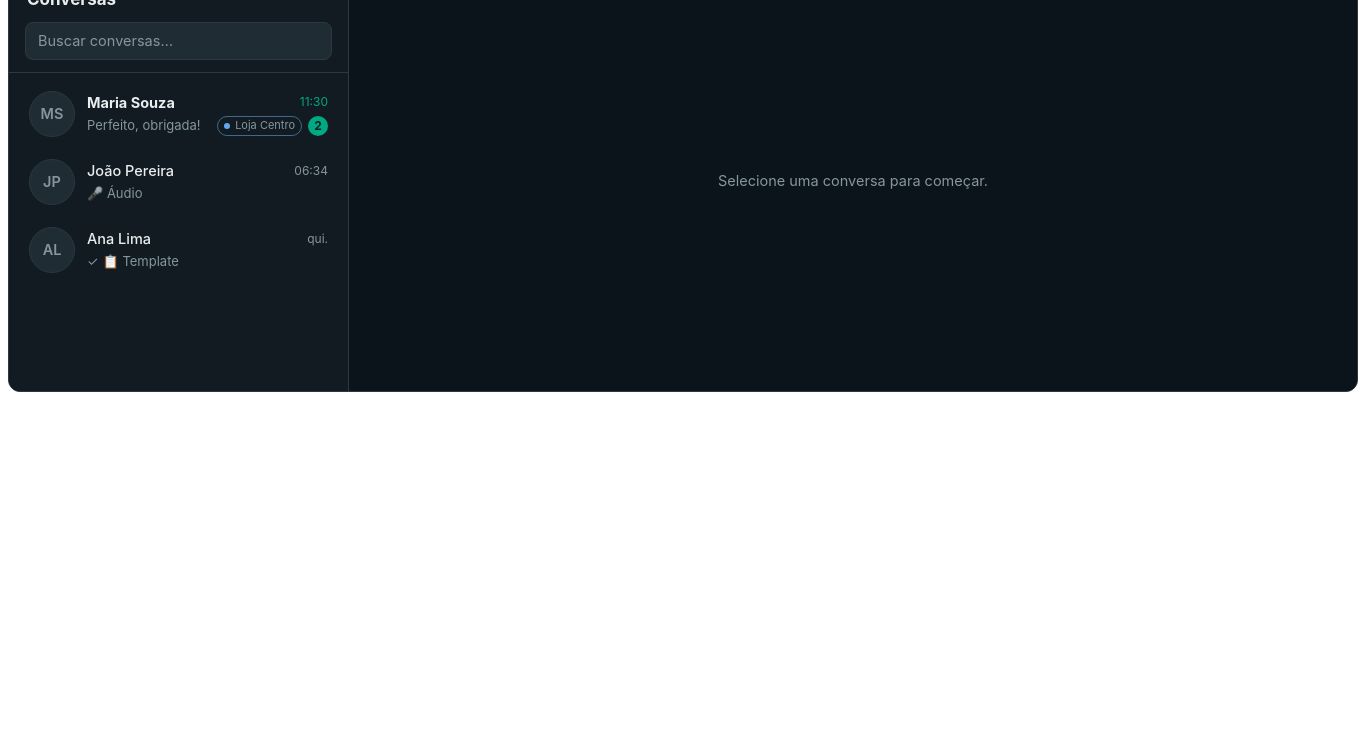
Scenario: ChatApp › renders conversations, opens a thread, sends optimistically
The width and height of the screenshot is (1366, 730).
Expected: the search field with placeholder "Buscar conversas…" is shown, [25,22,332,60]
# open thread
Click the button "MS Maria Souza 11:30 Perfeito, obrigada! Loja Centro 2": (52, 114) [17,81,340,147]
(page scrolled)
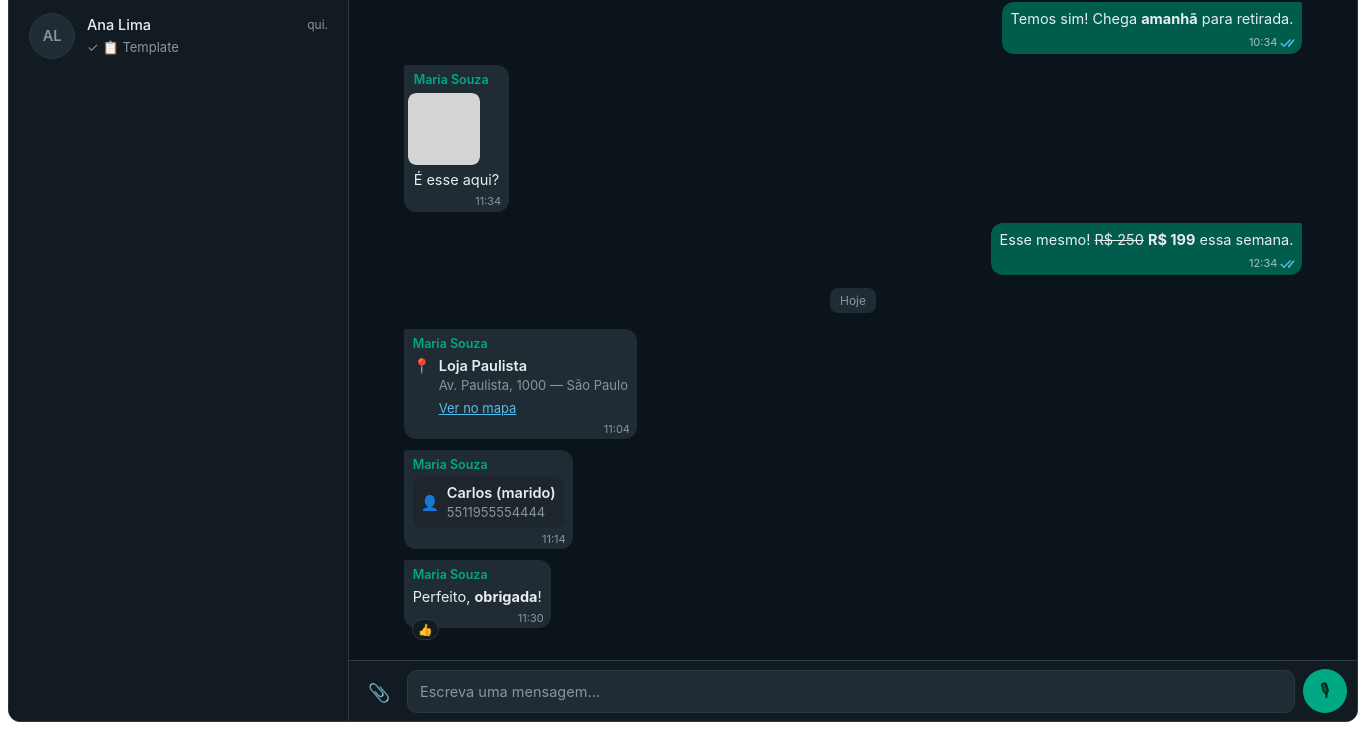
# optimistic send: bubble appears immediately
In the text box with placeholder "Escreva uma mensagem…": (851, 692) [407,670,1295,713], type "chegando em 10 min"
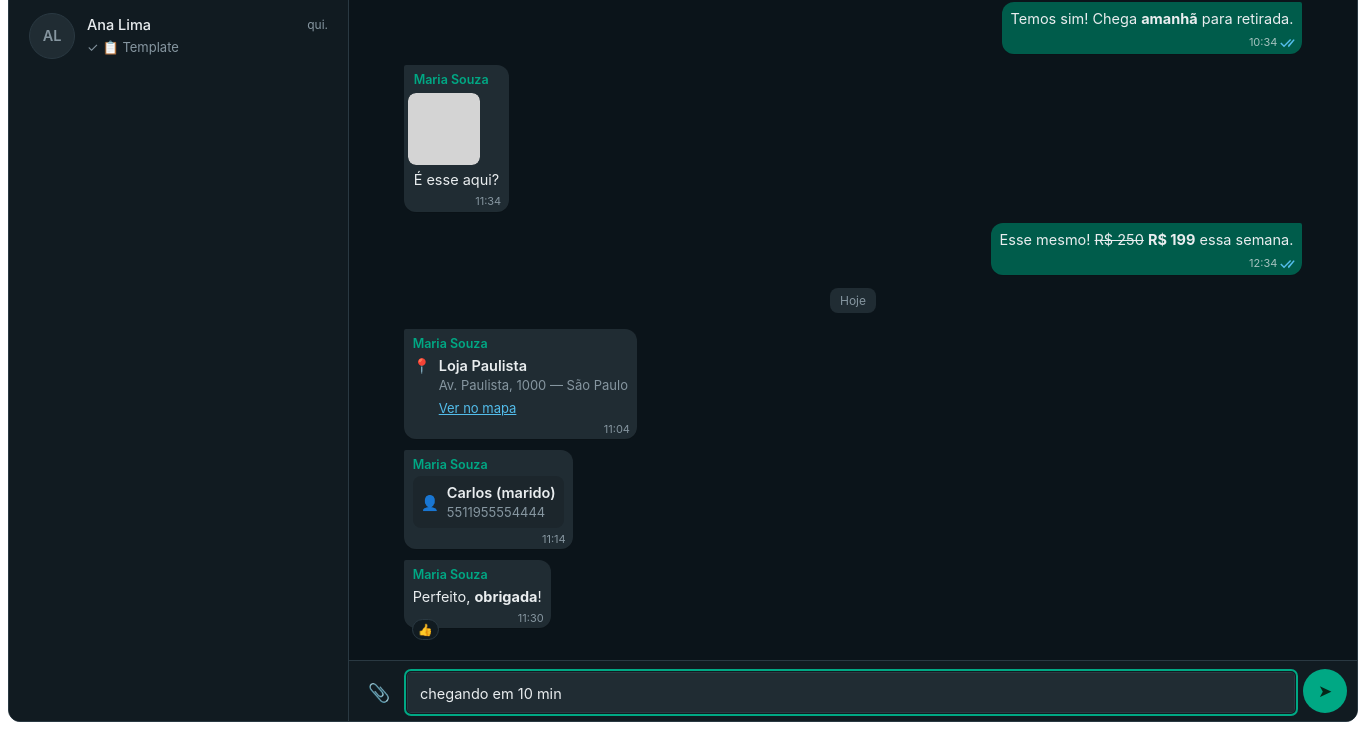
Press Enter
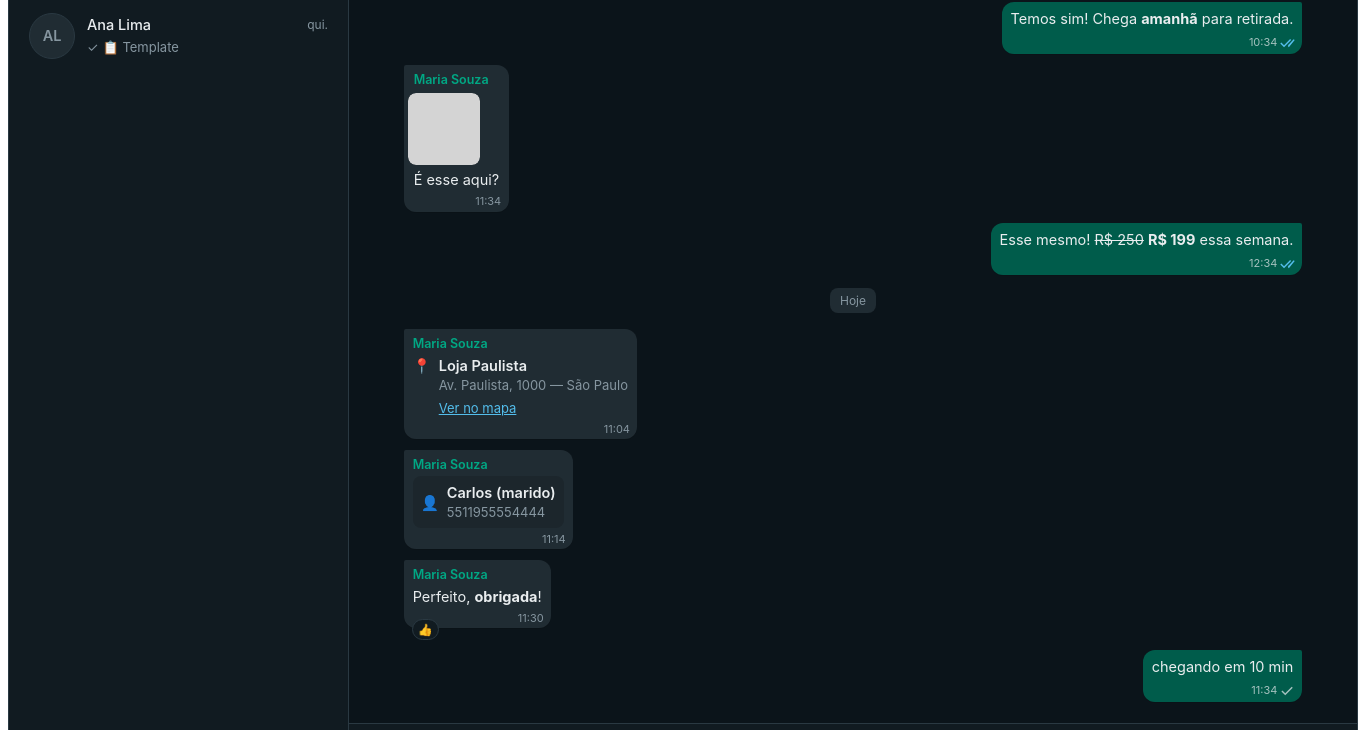
Now the text "chegando em 10 min" is shown, box [1152,658,1293,675]
Now the picture named "Enviada" is shown, box [1280,683,1295,698]
